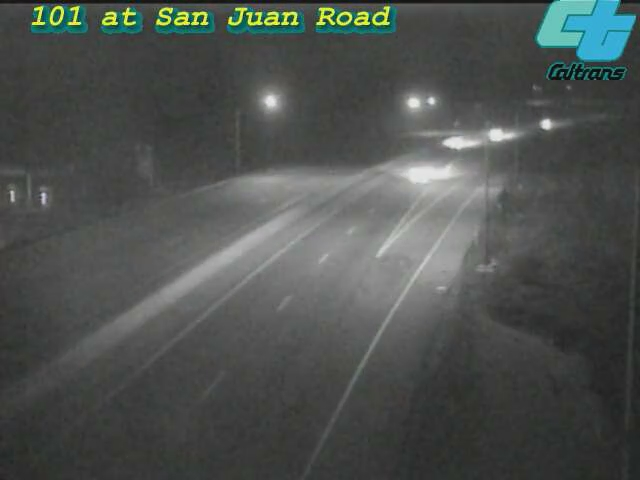vehicle: (383, 134, 463, 214), (522, 99, 572, 149), (474, 109, 524, 159), (435, 115, 485, 165)
